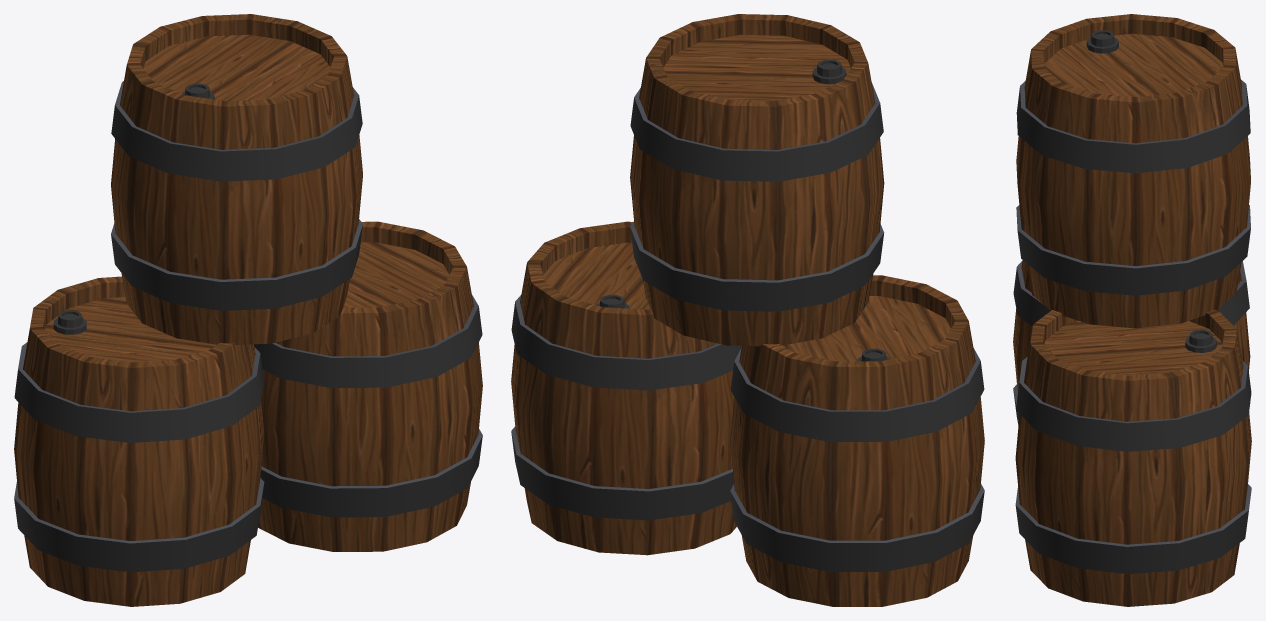
File: 3 barriles.fbx
3 views of the same model, side by side, from view 1: azimuth 30°, elevation 25°; view 2: azimuth 150°, elevation 25°; view 3: azimuth 270°, elevation 25° (orthographic). The views are drawn at different scales.
Visible parts, largest first — view 1: Cylinder.007, Cylinder.003, Cylinder.006; view 2: Cylinder.007, Cylinder.003, Cylinder.006; view 3: Cylinder.007, Cylinder.006, Cylinder.003.
Boxes of the visible parts, left/top/right/bottom form: Cylinder.007: left=111, top=14, right=362, bottom=344; Cylinder.003: left=14, top=276, right=264, bottom=606; Cylinder.006: left=254, top=221, right=482, bottom=551; Cylinder.007: left=630, top=14, right=884, bottom=346; Cylinder.003: left=730, top=275, right=984, bottom=606; Cylinder.006: left=511, top=221, right=741, bottom=555; Cylinder.007: left=1016, top=14, right=1250, bottom=328; Cylinder.006: left=1015, top=309, right=1251, bottom=606; Cylinder.003: left=1013, top=260, right=1250, bottom=425.
Bounding box in the file's own units: 129 × 134 × 64.73.
